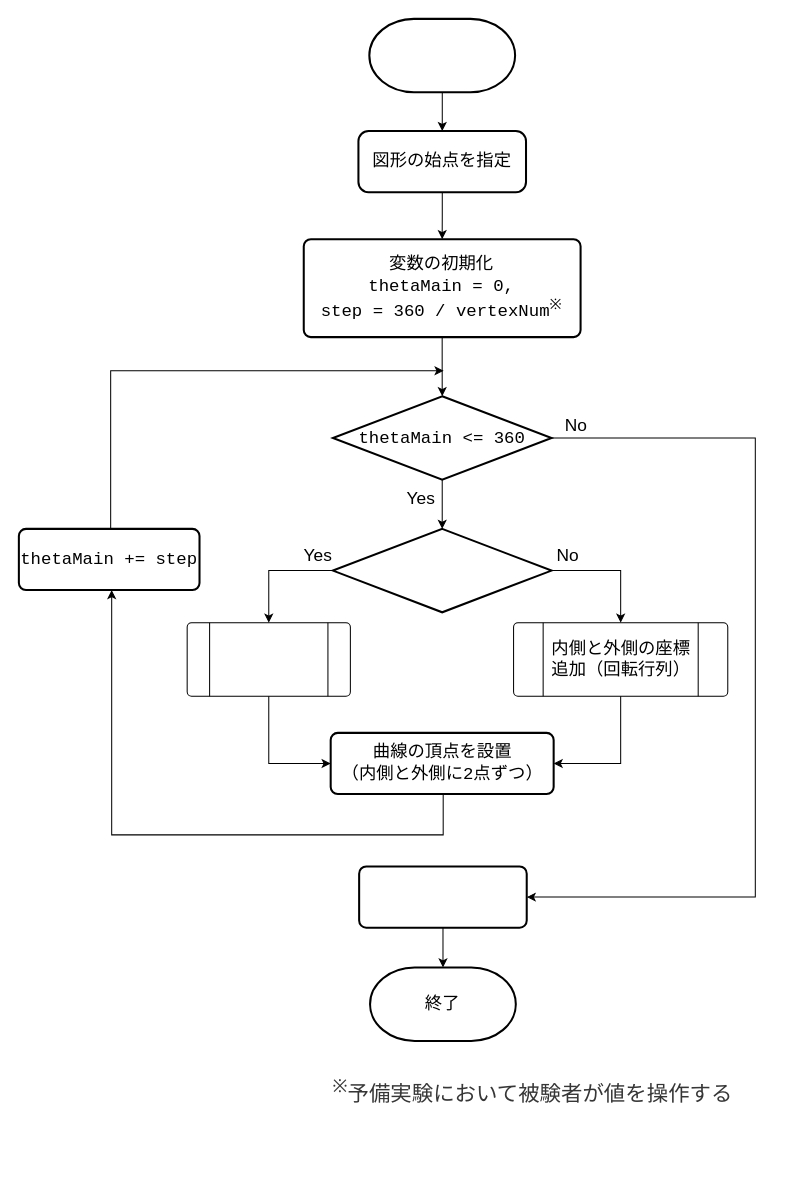
Image size: 786x1190. Some labels were removed from this diagram. The box of each missing label's shape, as (x1, y1, x2, y2) in pixels:
thetaMain == 0: (331, 527, 552, 613)
内側と外側の 初期座標計算: (186, 622, 350, 696)
図形の終点を指定: (358, 865, 527, 928)
開始: (368, 17, 516, 93)
